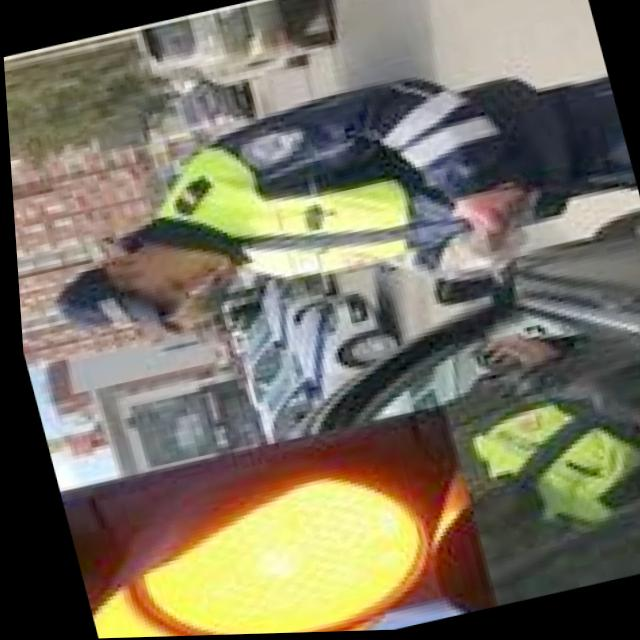yellow_light: (53, 427, 449, 639)
